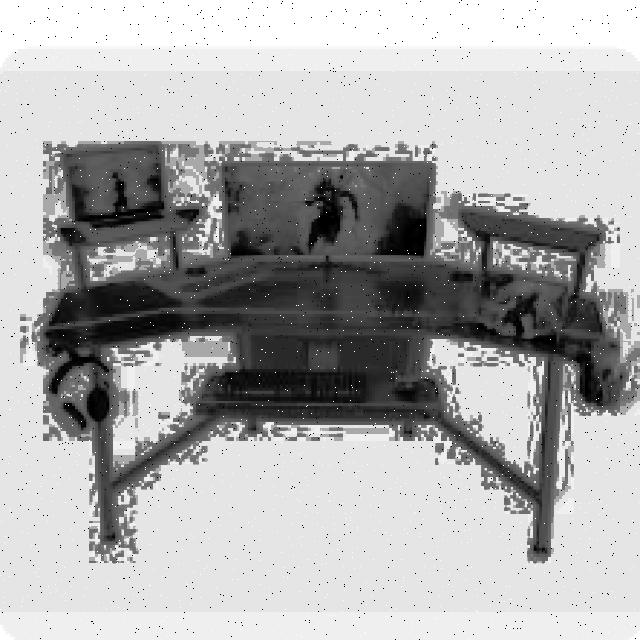table: (40, 249, 623, 554)
